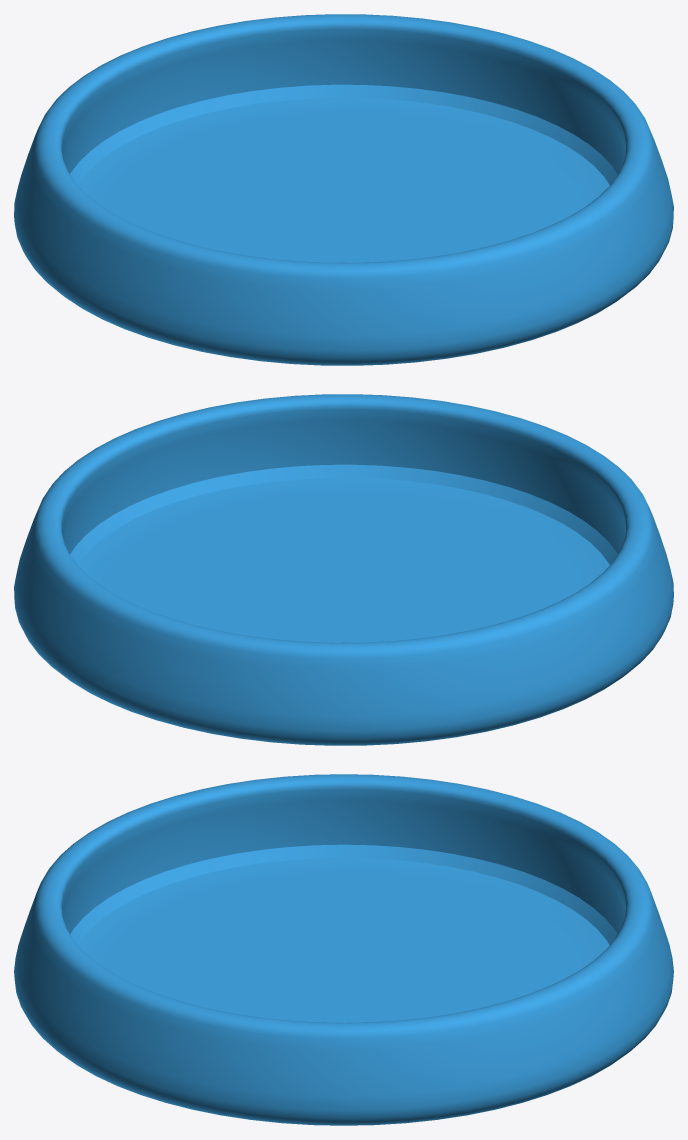
The model's file is pool.fbx.
The picture shows the model from 3 angles, top to bottom: view 1: azimuth 30°, elevation 25°; view 2: azimuth 150°, elevation 25°; view 3: azimuth 270°, elevation 25°; orthographic projection.
Parts seen in each view (by area): view 1: Cylinder; view 2: Cylinder; view 3: Cylinder.
Part boxes in pixels (bbox=[...]): Cylinder: bbox=[14, 14, 673, 365]; Cylinder: bbox=[14, 394, 673, 745]; Cylinder: bbox=[14, 774, 673, 1125].
Bounding box in the file's own units: 1258 × 200 × 1258.
